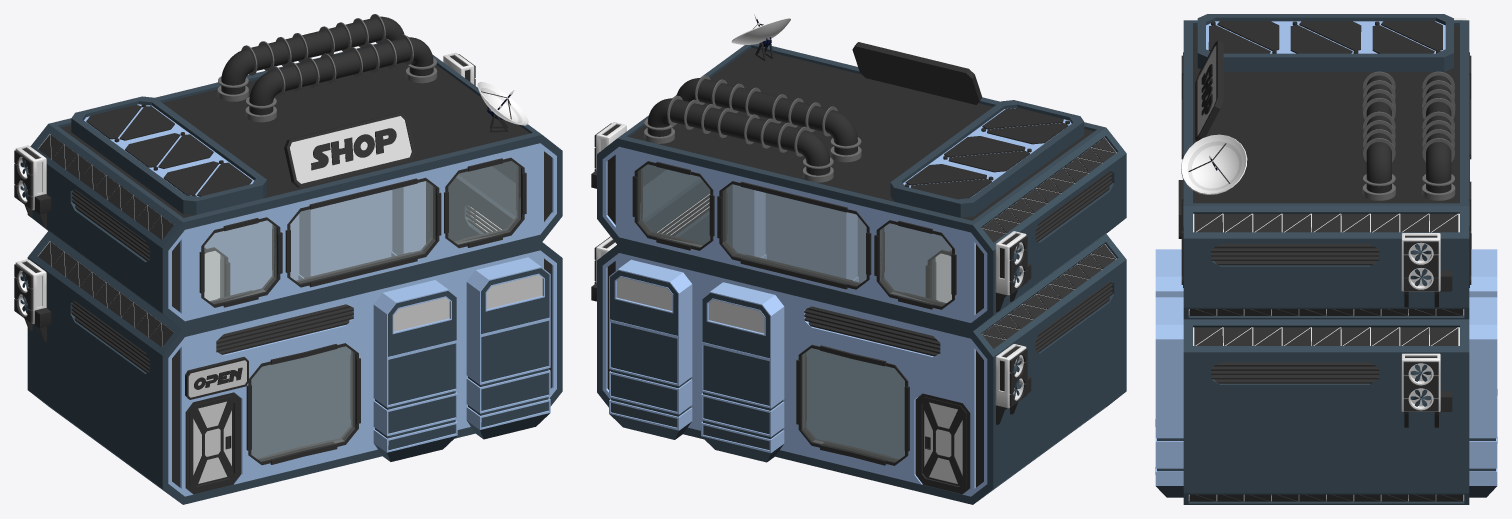
Rendered from Shop3.fbx.
3 renders of one model, left to right at view 1: azimuth 30°, elevation 25°; view 2: azimuth 150°, elevation 25°; view 3: azimuth 270°, elevation 25°, orthographic. The views are drawn at different scales.
Parts seen in each view (by area): view 1: Cube.001, Cube.003; view 2: Cube.001, Cube.002; view 3: Cube.001.
Boxes of the visible parts, x1=… form: Cube.001: x1=14, y1=14, x2=562, y2=504; Cube.003: x1=185, y1=392, x2=240, y2=494; Cube.001: x1=591, y1=14, x2=1126, y2=504; Cube.002: x1=915, y1=393, x2=970, y2=494; Cube.001: x1=1155, y1=14, x2=1497, y2=504.
Bounding box in the file's own units: 4.37 × 3.16 × 2.82.
